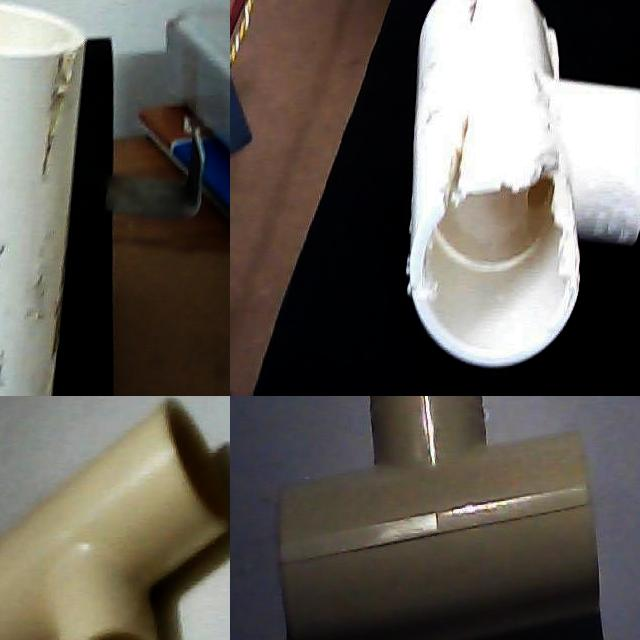Defective: (508, 138, 581, 314), (0, 237, 70, 396), (42, 46, 77, 194), (393, 396, 455, 479), (524, 5, 567, 116), (449, 92, 474, 240), (464, 0, 491, 34)
T Joint: (405, 0, 640, 378), (280, 396, 600, 640), (0, 399, 230, 640), (0, 4, 88, 396)
